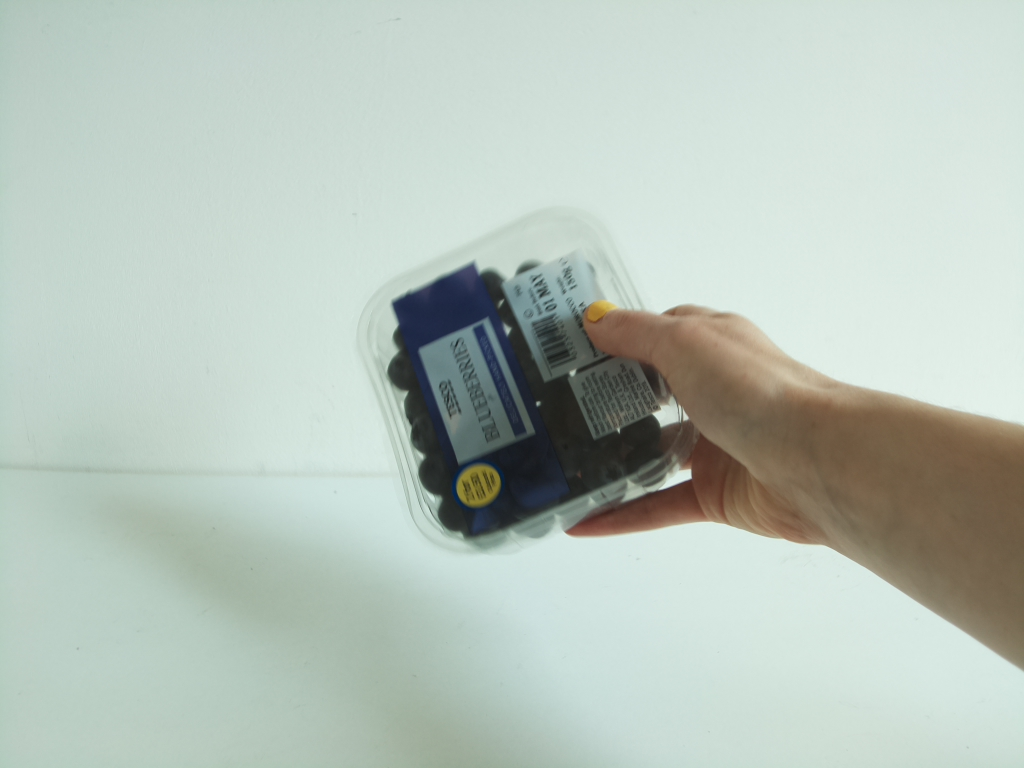soft-fruit: (361, 201, 703, 554)
